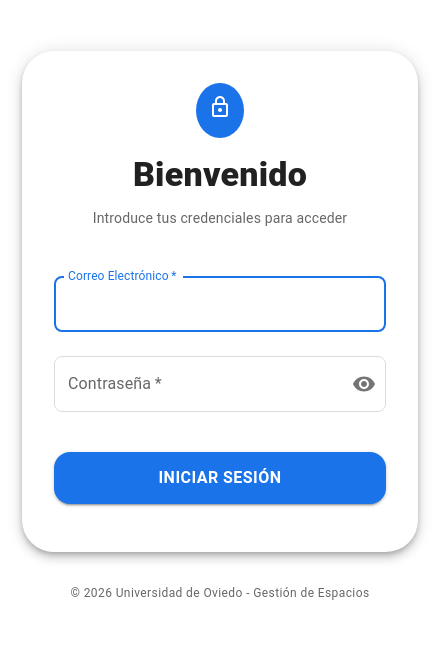
Test: LoginPage › debe mostrar error cuando las credenciales son incorrectas
This screenshot has width=441, height=649.
Type "error@uniovi.es" into the field labelled "Correo Electrónico *" at (220, 304), box [54,276,386,332]
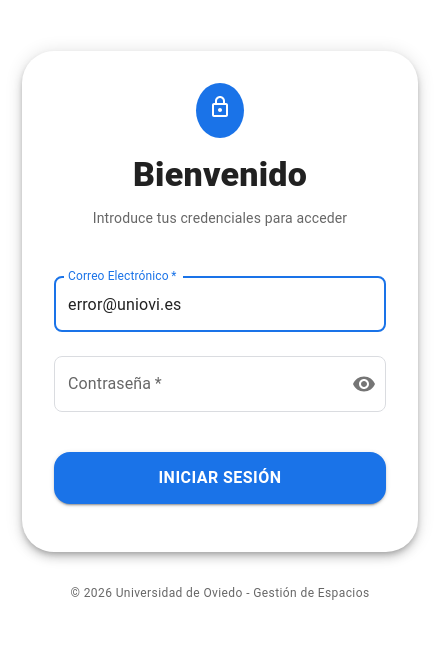
Type "wrong" into the password field labelled "Contraseña *" at (195, 384), box [54,356,336,412]
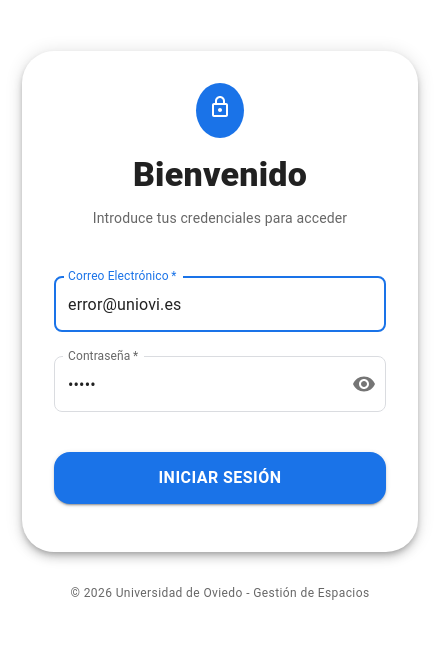
Click the button "Iniciar Sesión" at (220, 478), box [54,452,386,504]
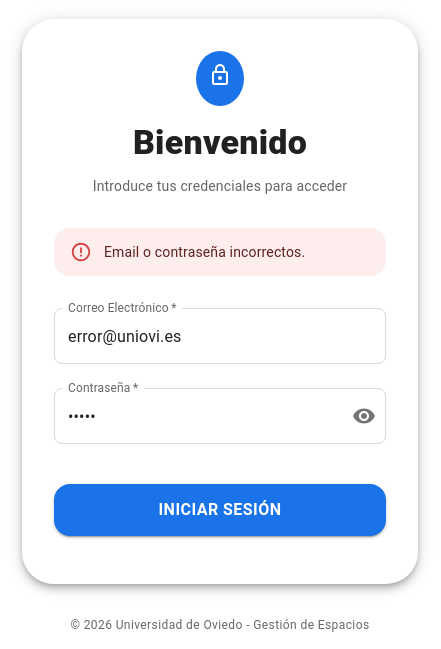
Check: the text "Email o contraseña incorrectos." is shown, box [104,244,305,260]
